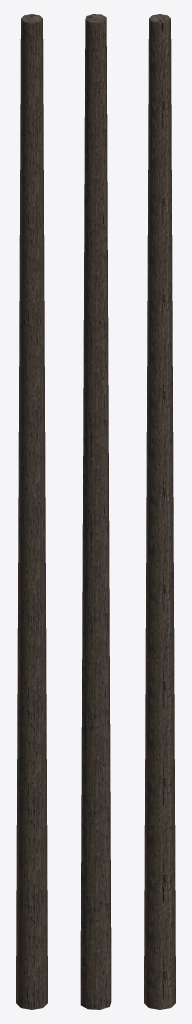
File: pole_wood_a_lod_0.glb
The picture shows the model from 3 angles, left to right: view 1: azimuth 90°, elevation 25°; view 2: azimuth 150°, elevation 25°; view 3: azimuth 270°, elevation 25°; orthographic projection.
Visible parts, largest first — view 1: pole_wood_a_lod_0; view 2: pole_wood_a_lod_0; view 3: pole_wood_a_lod_0.
Boxes of the visible parts, bbox=[...] form: pole_wood_a_lod_0: bbox=[16, 14, 47, 1009]; pole_wood_a_lod_0: bbox=[80, 14, 111, 1009]; pole_wood_a_lod_0: bbox=[144, 14, 175, 1009].
Bounding box in the file's own units: 0.3 × 10.2 × 0.3.
1 material, 1 textured.
